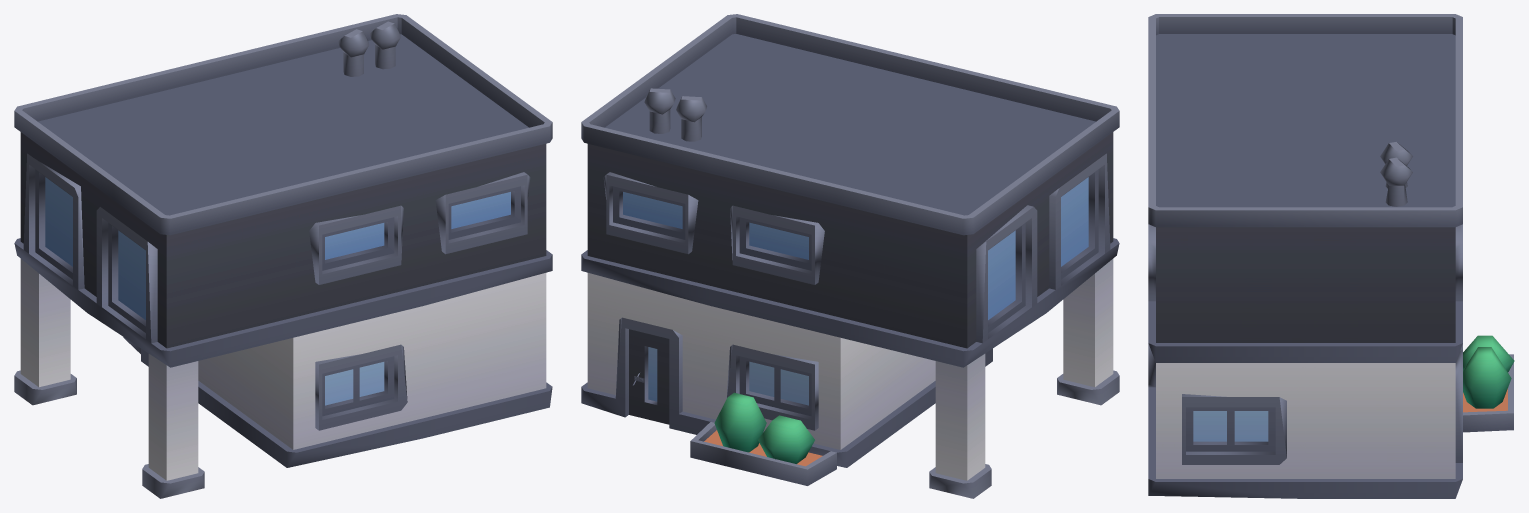
File: 069_city-kit-suburban_building-type-p_card.glb
The picture shows the model from 3 angles, left to right: view 1: azimuth 30°, elevation 25°; view 2: azimuth 150°, elevation 25°; view 3: azimuth 270°, elevation 25°; orthographic projection. The views are drawn at different scales.
Visible parts, largest first — view 1: building-type-p; view 2: building-type-p; view 3: building-type-p.
Part boxes in pixels (x1=…): building-type-p: x1=14, y1=14, x2=552, y2=498; building-type-p: x1=581, y1=14, x2=1119, y2=498; building-type-p: x1=1148, y1=14, x2=1514, y2=498.
Size of the model in its own units: 1.24 by 0.918 by 0.9774.
Materials: 1 (1 with a texture image).
